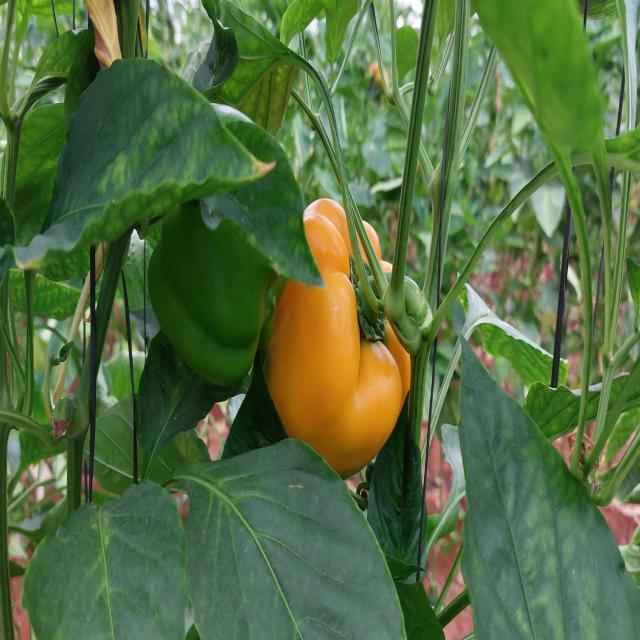Yellow-Ready-to-Harvest: (267, 198, 412, 474)
